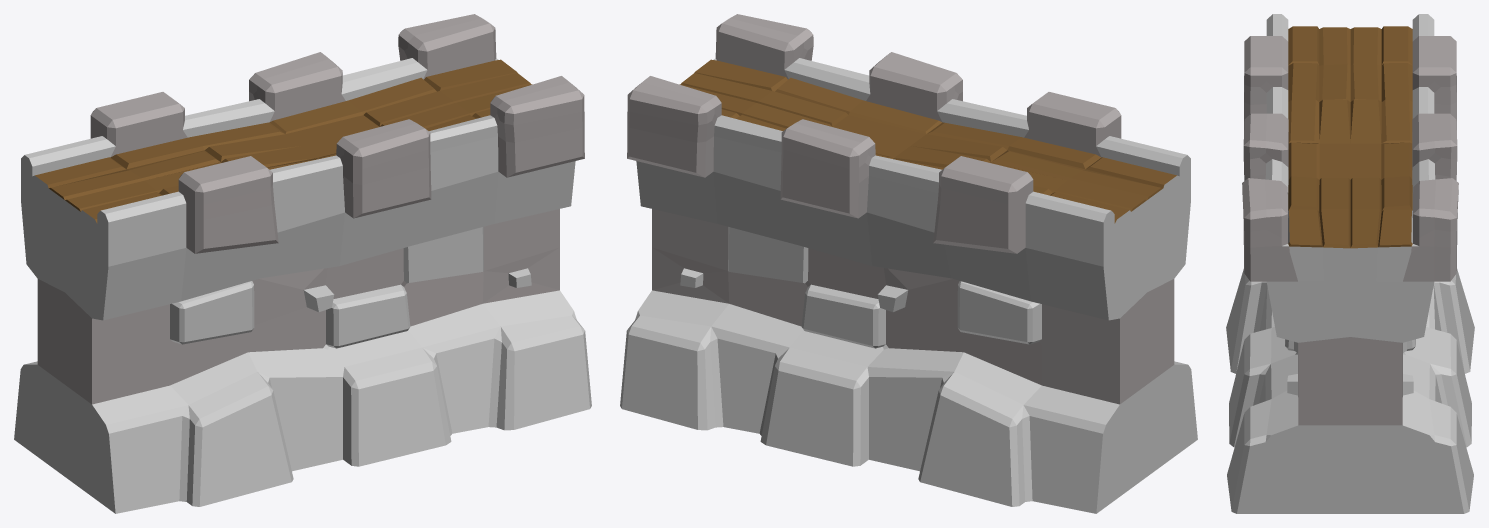
Rendered from Stone_Wall_Bldg_04.glb.
The picture shows the model from 3 angles, left to right: view 1: azimuth 30°, elevation 25°; view 2: azimuth 150°, elevation 25°; view 3: azimuth 270°, elevation 25°; orthographic projection. The views are drawn at different scales.
Visible parts, largest first — view 1: Stone_Wall_Bldg_04; view 2: Stone_Wall_Bldg_04; view 3: Stone_Wall_Bldg_04.
Part boxes in pixels (left/top/right/bottom): Stone_Wall_Bldg_04: left=14, top=14, right=591, bottom=513; Stone_Wall_Bldg_04: left=620, top=14, right=1197, bottom=513; Stone_Wall_Bldg_04: left=1226, top=14, right=1474, bottom=513.
Size of the model in its own units: 8 by 5.14 by 3.84.
1 material, 1 textured.
